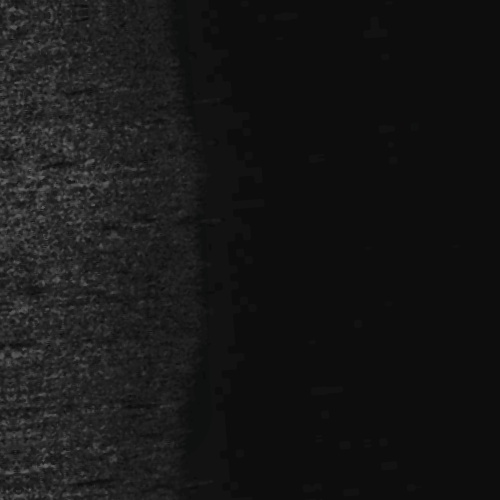object: (6, 283, 47, 288)
shadow: (0, 283, 26, 288)
